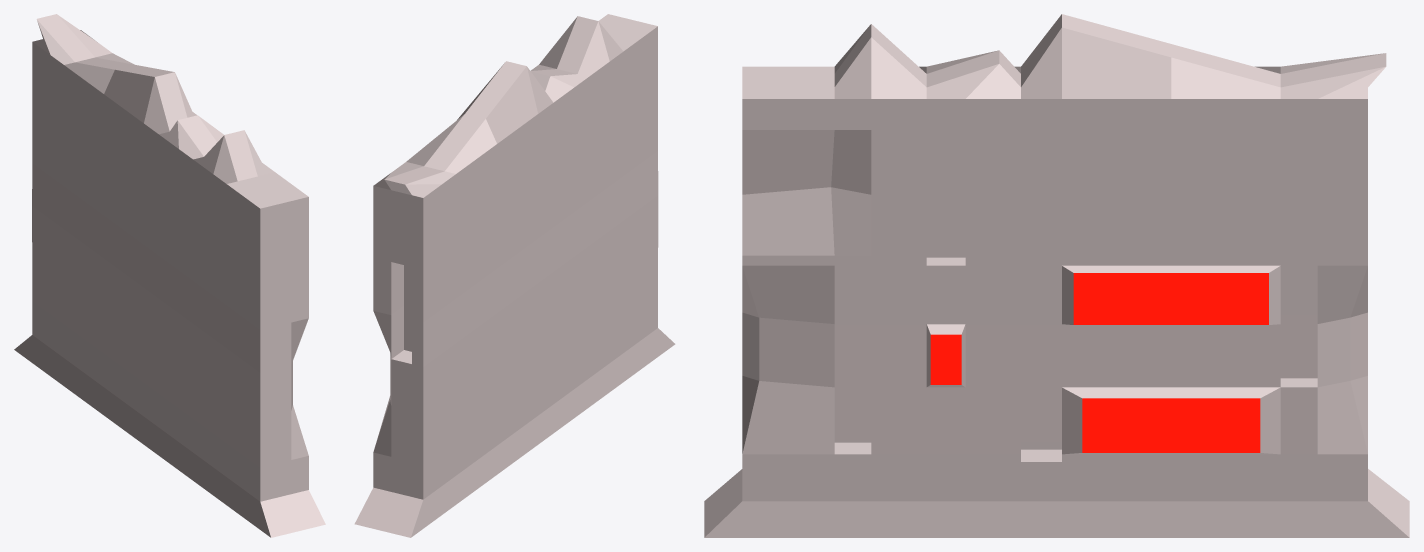
Rendered from Generador.fbx.
3 renders of one model, left to right at view 1: azimuth 30°, elevation 25°; view 2: azimuth 150°, elevation 25°; view 3: azimuth 270°, elevation 25°, orthographic. The views are drawn at different scales.
Visible parts, largest first — view 1: Panel; view 2: Panel; view 3: Panel.
Boxes of the visible parts, x1=… form: Panel: x1=14, y1=14, x2=325, y2=537; Panel: x1=354, y1=14, x2=675, y2=537; Panel: x1=704, y1=14, x2=1409, y2=537.
Bounding box in the file's own units: 160 × 944 × 1215.
